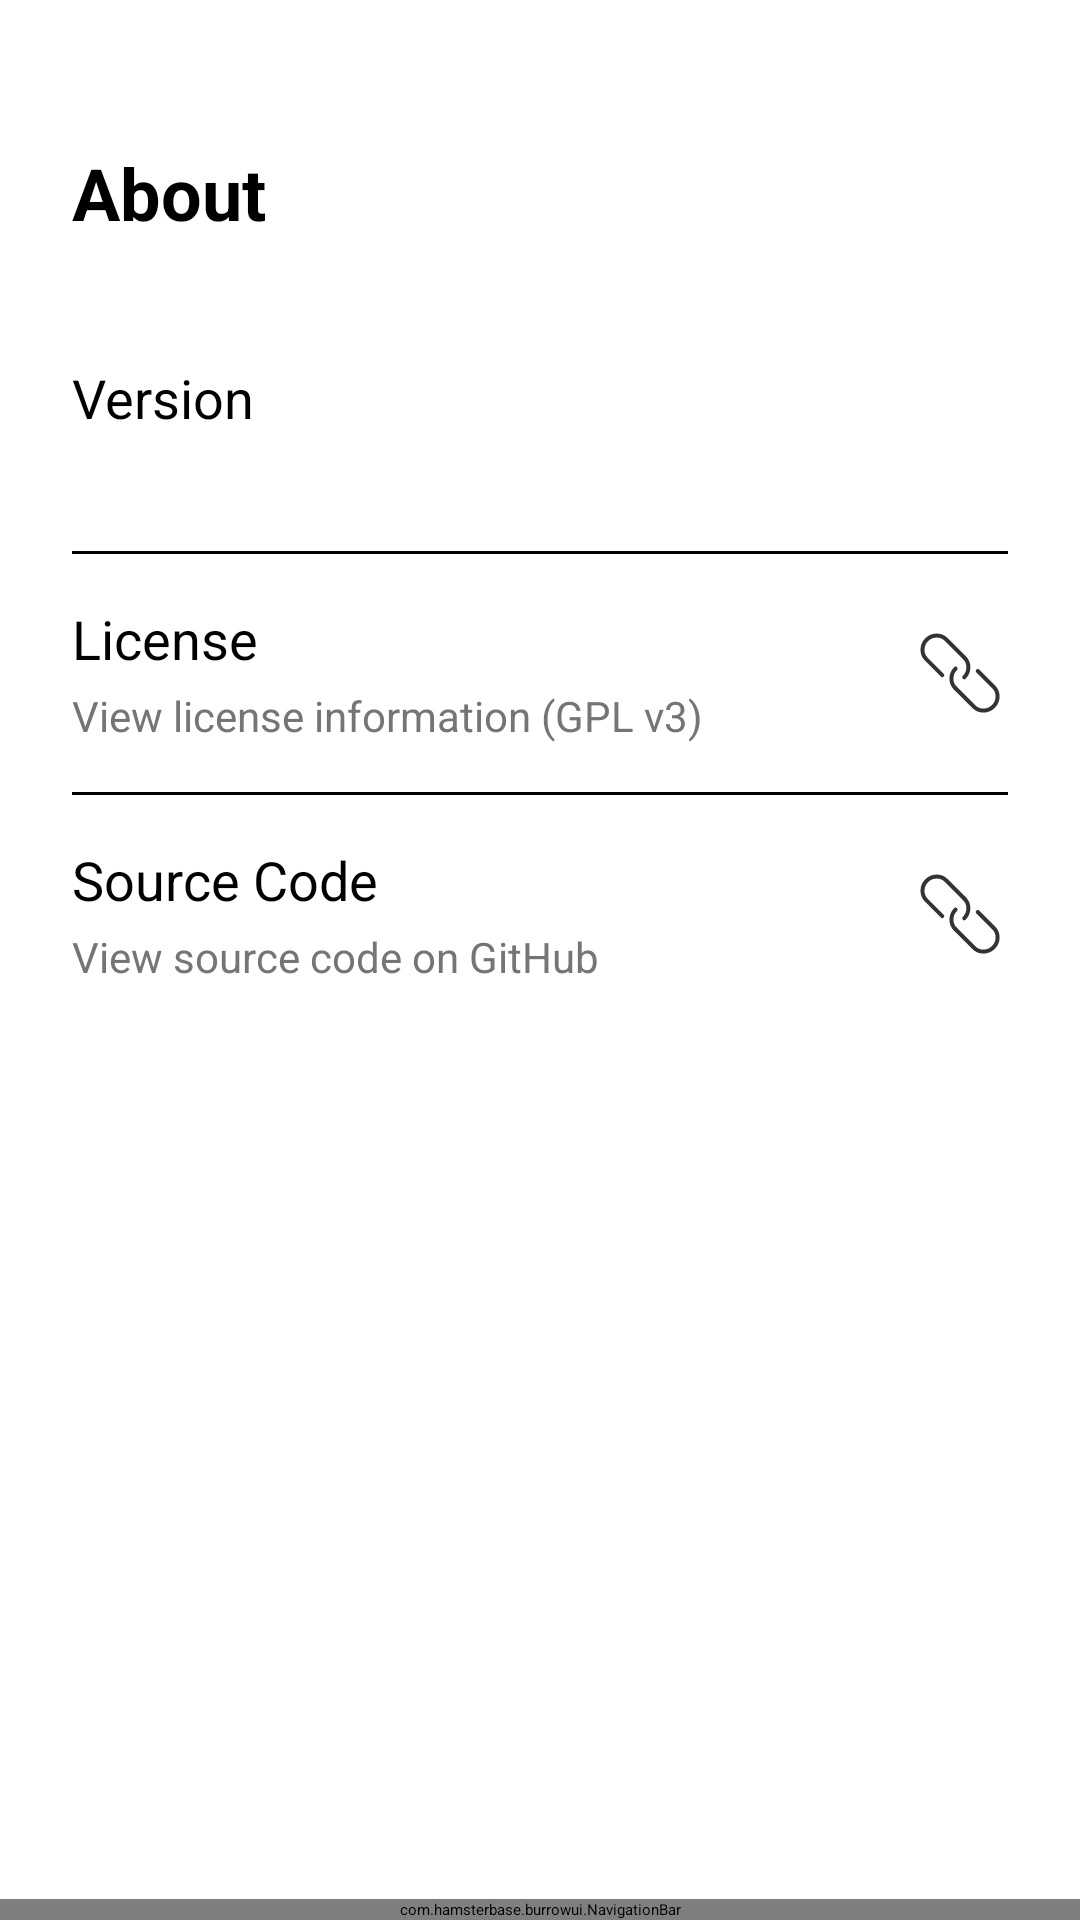

Named icons in this screenshot (1080 x 1920) and their bounding boxes, (x1, y1, x2, y2):
link: (920, 633, 1000, 713), (920, 874, 1000, 954)
